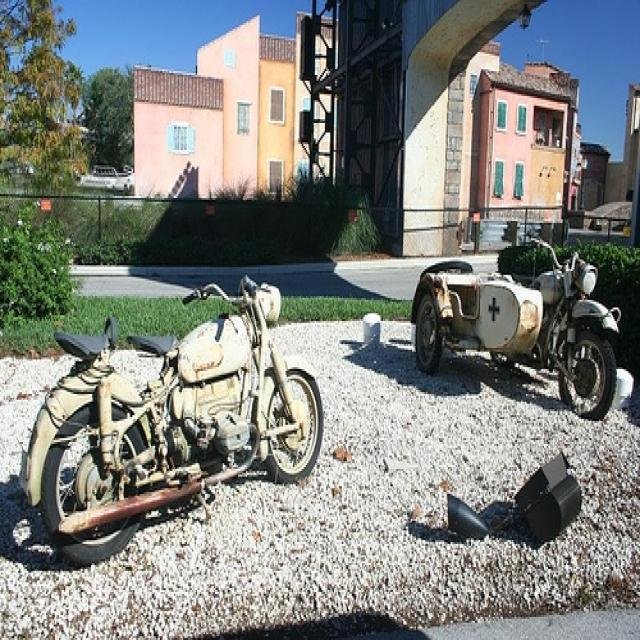motorbike: (13, 271, 331, 575), (397, 223, 623, 436)
